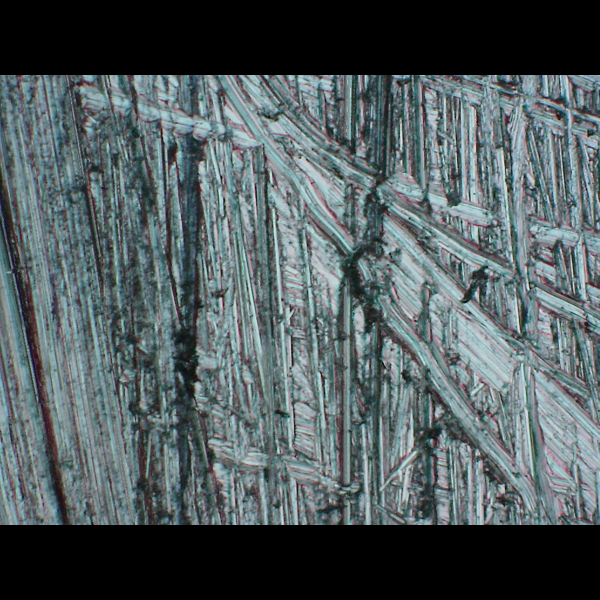d: (202, 75, 599, 502)
